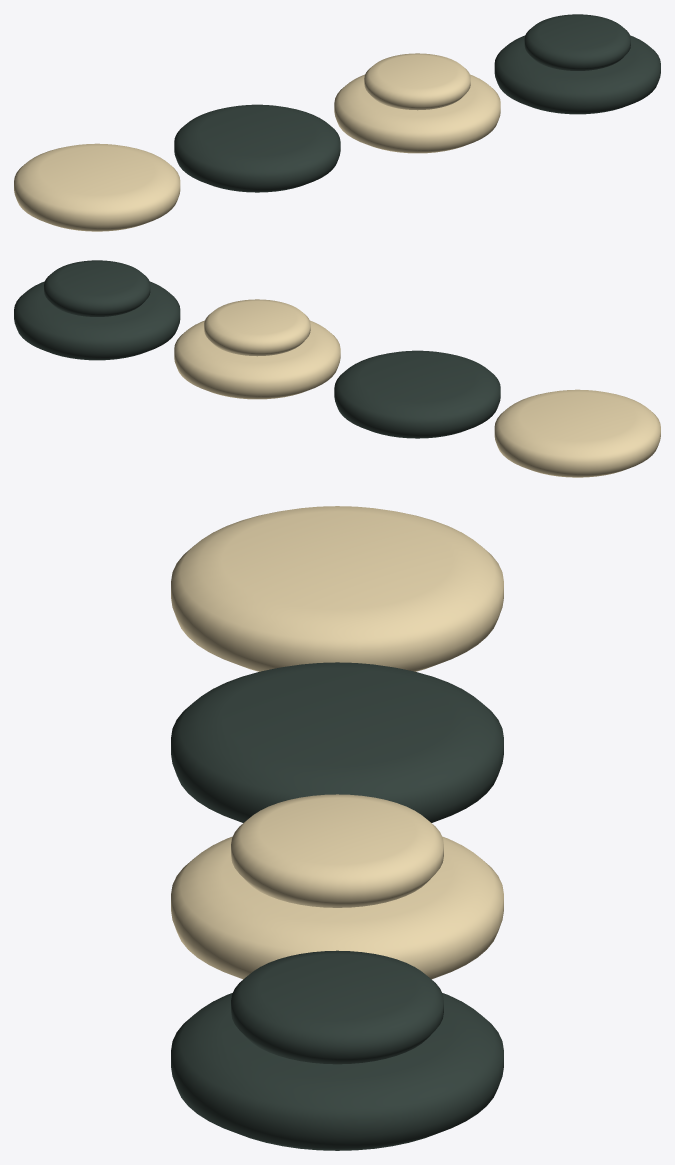
The model's file is dam-haji-pieces.glb.
3 renders of one model, top to bottom at view 1: azimuth 30°, elevation 25°; view 2: azimuth 150°, elevation 25°; view 3: azimuth 270°, elevation 25°, orthographic. The views are drawn at different scales.
Visible parts, largest first — view 1: CheckerCharcoal base, CheckerCream base, HajiCream base, HajiCharcoal base, HajiCream crown, HajiCharcoal crown; view 2: CheckerCharcoal base, CheckerCream base, HajiCream base, HajiCharcoal base, HajiCream crown, HajiCharcoal crown; view 3: CheckerCream base, CheckerCharcoal base, HajiCharcoal base, HajiCream base, HajiCream crown, HajiCharcoal crown.
Part boxes in pixels (<box>): CheckerCharcoal base: <box>174,104,340,192</box>; CheckerCream base: <box>14,143,180,231</box>; HajiCream base: <box>334,74,500,153</box>; HajiCharcoal base: <box>494,35,660,114</box>; HajiCream crown: <box>364,53,470,110</box>; HajiCharcoal crown: <box>524,14,630,70</box>; CheckerCharcoal base: <box>334,350,500,438</box>; CheckerCream base: <box>494,389,660,477</box>; HajiCream base: <box>174,320,340,399</box>; HajiCharcoal base: <box>14,281,180,360</box>; HajiCream crown: <box>204,299,310,356</box>; HajiCharcoal crown: <box>44,260,150,316</box>; CheckerCream base: <box>171,506,503,671</box>; CheckerCharcoal base: <box>171,662,503,822</box>; HajiCharcoal base: <box>171,993,503,1150</box>; HajiCream base: <box>171,836,503,979</box>; HajiCream crown: <box>231,794,443,907</box>; HajiCharcoal crown: <box>231,950,443,1064</box>.
Size of the model in its own units: 0.312 by 0.026 by 0.072.
